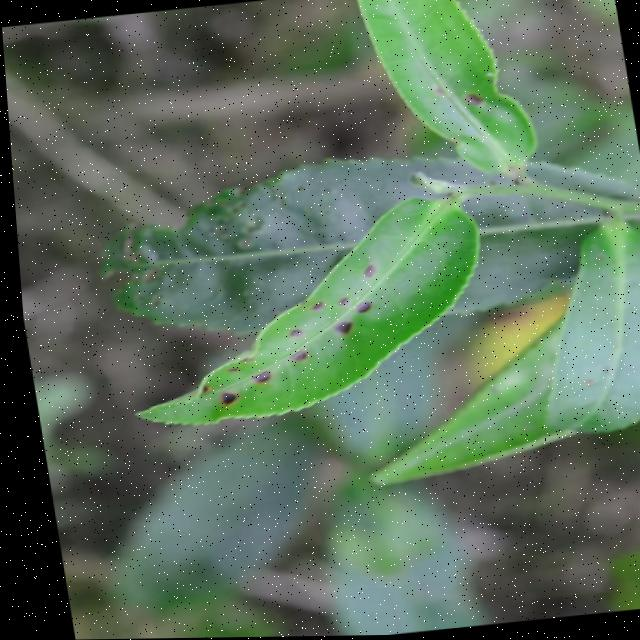Tea red scab: (294, 285, 382, 344), (428, 69, 501, 116), (265, 322, 323, 366), (226, 350, 287, 389), (334, 249, 390, 288), (191, 386, 244, 415)
